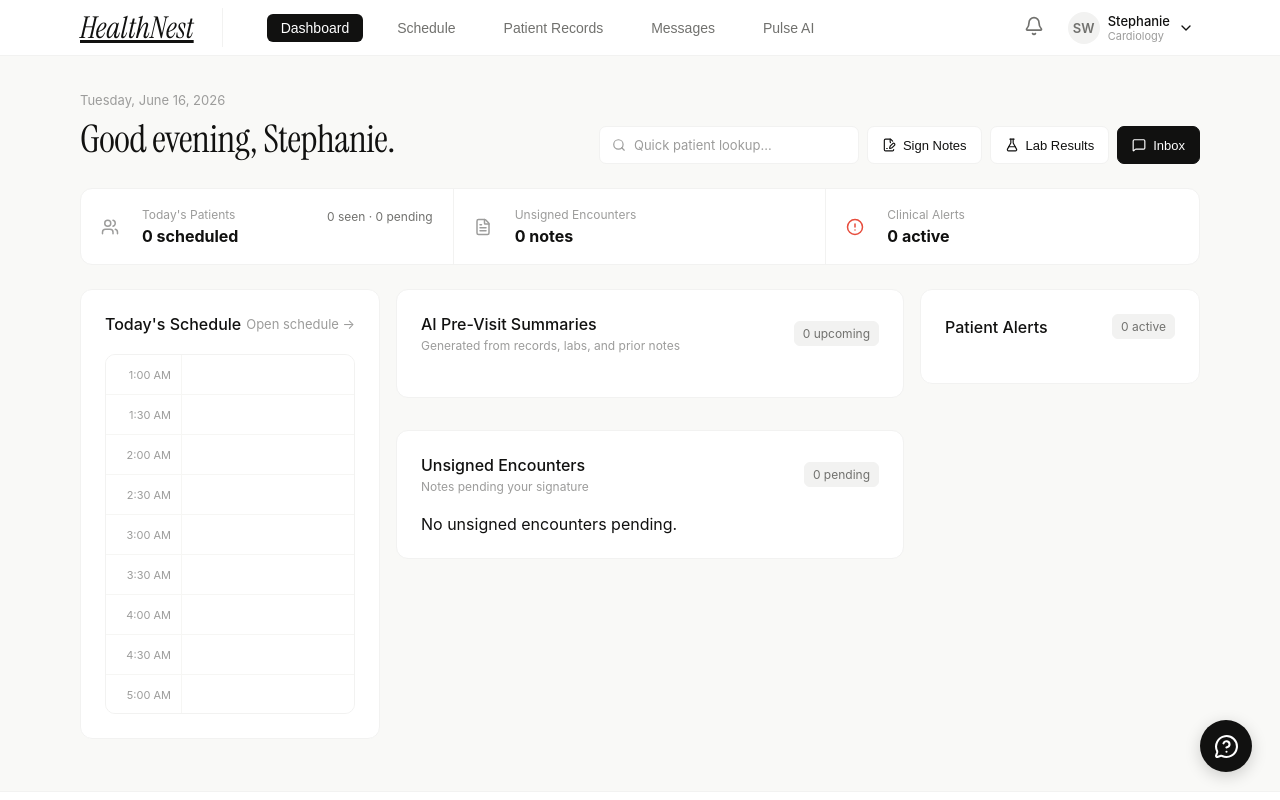
Scenario: DoctorDashboard › labs tab shows the patient's real lab results
(page scrolled)
Type "Alex" into the field labelled "Quick patient lookup" at x=740, y=145, box [634,137,846,153]
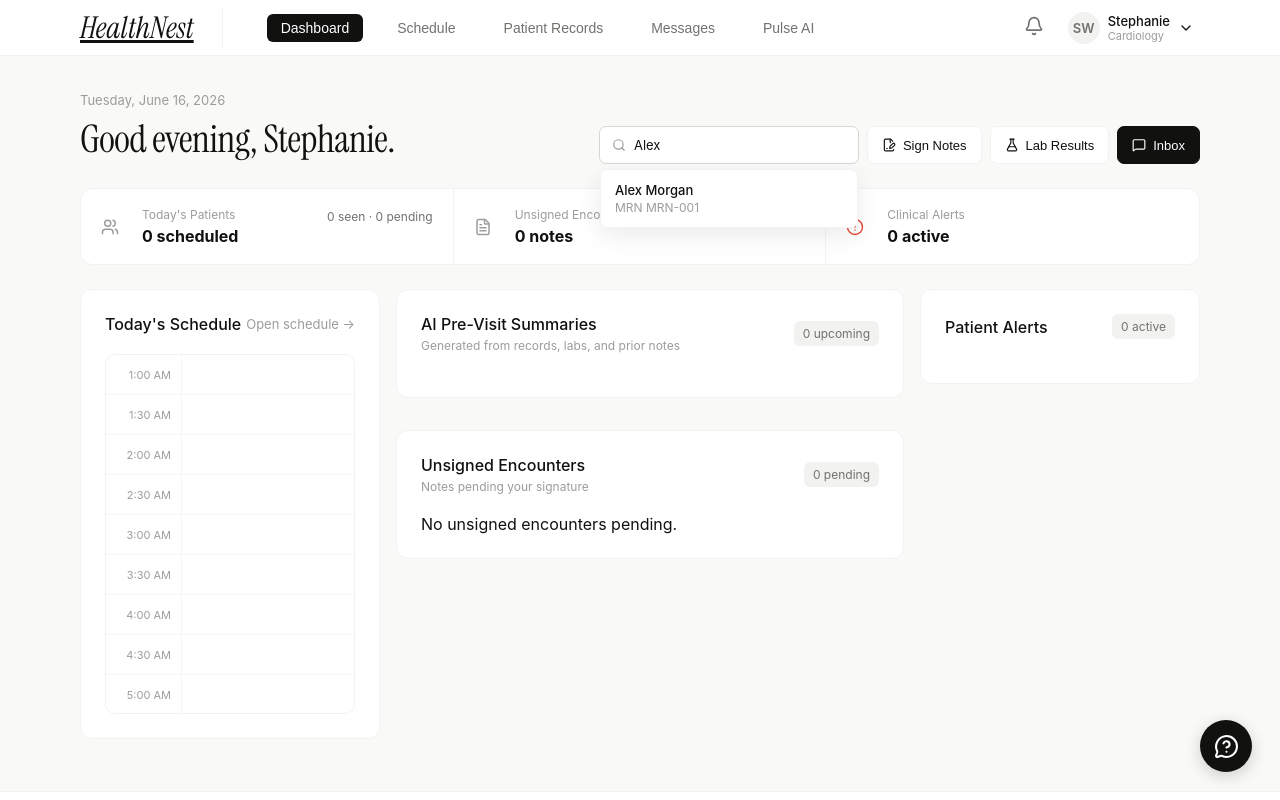
Click the text "Alex Morgan" at x=654, y=190, box [615,182,693,198]
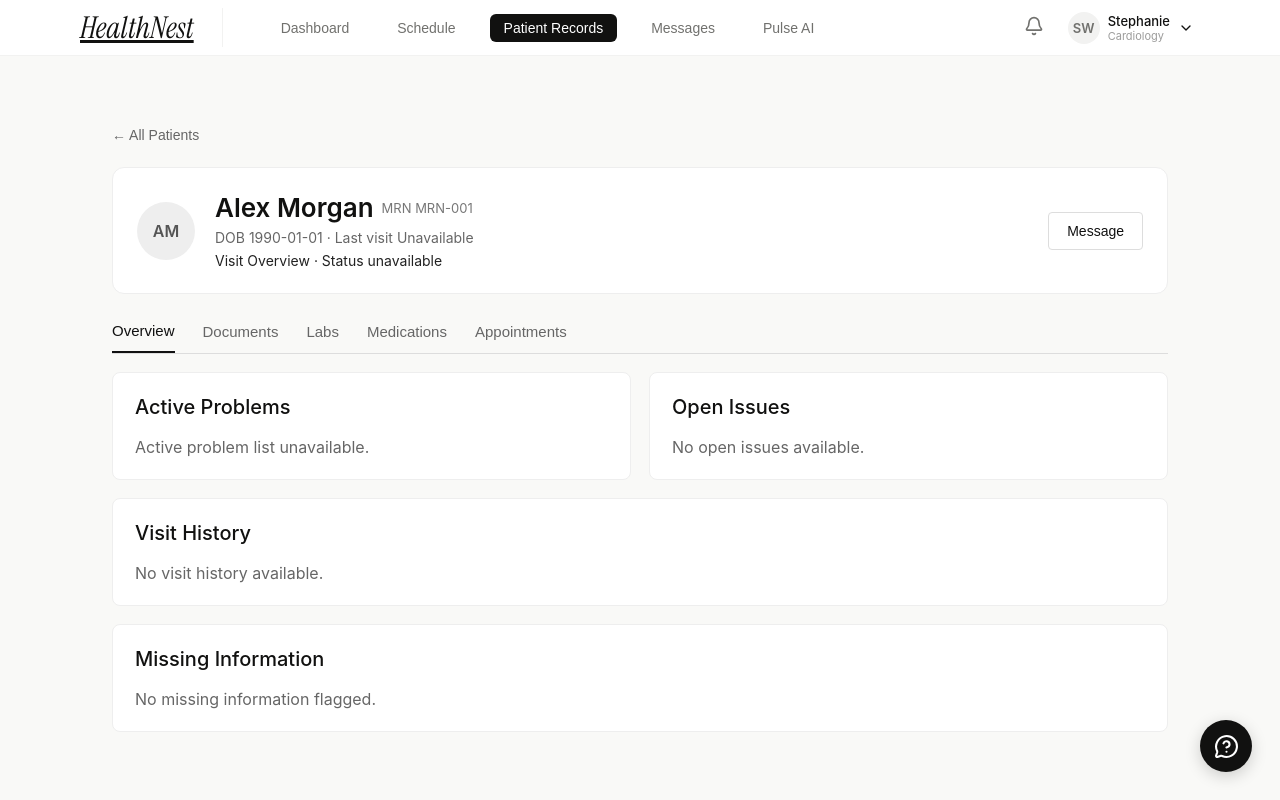
Now the heading "Alex Morgan" is shown, box [215,192,374,223]
Click the button "Labs" at x=323, y=338, box [306,322,339,353]
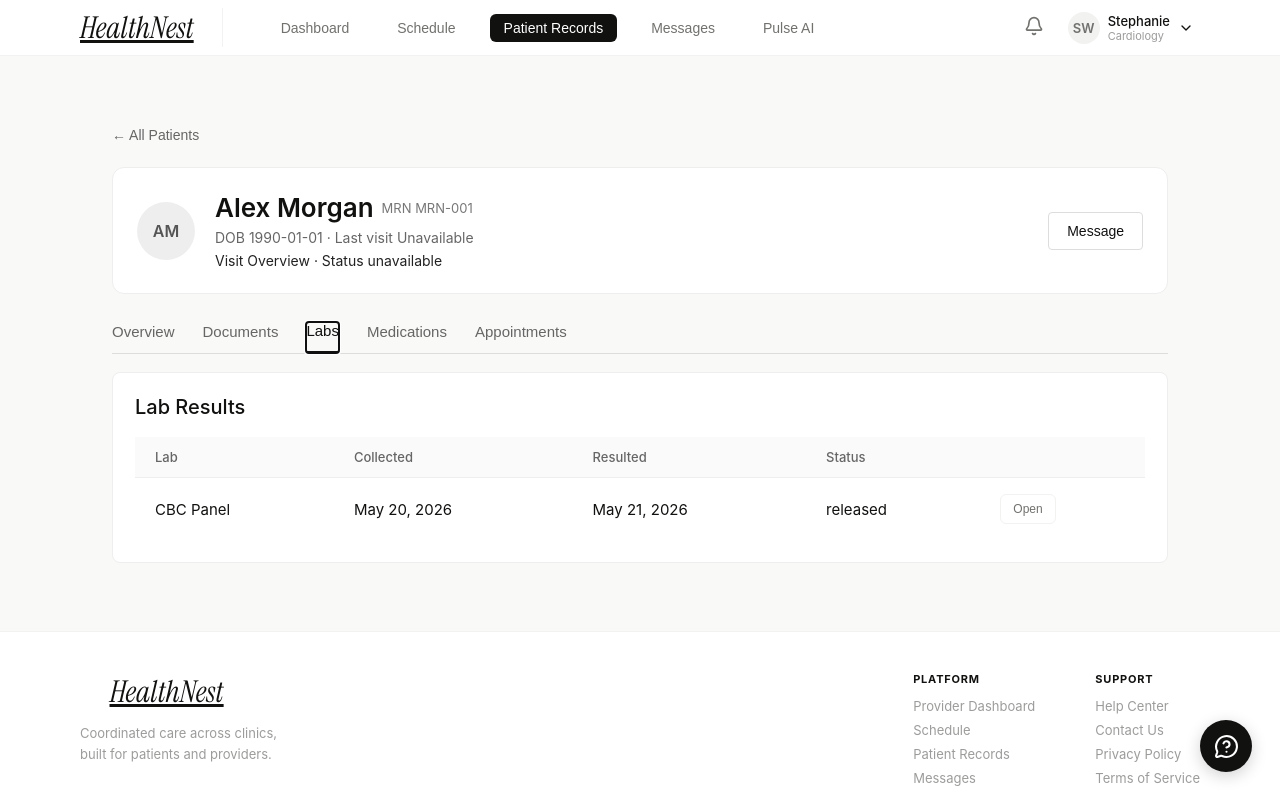
Now the text "CBC Panel" is shown, box [135,478,334,540]
Now the text "released" is shown, box [806,478,980,540]
